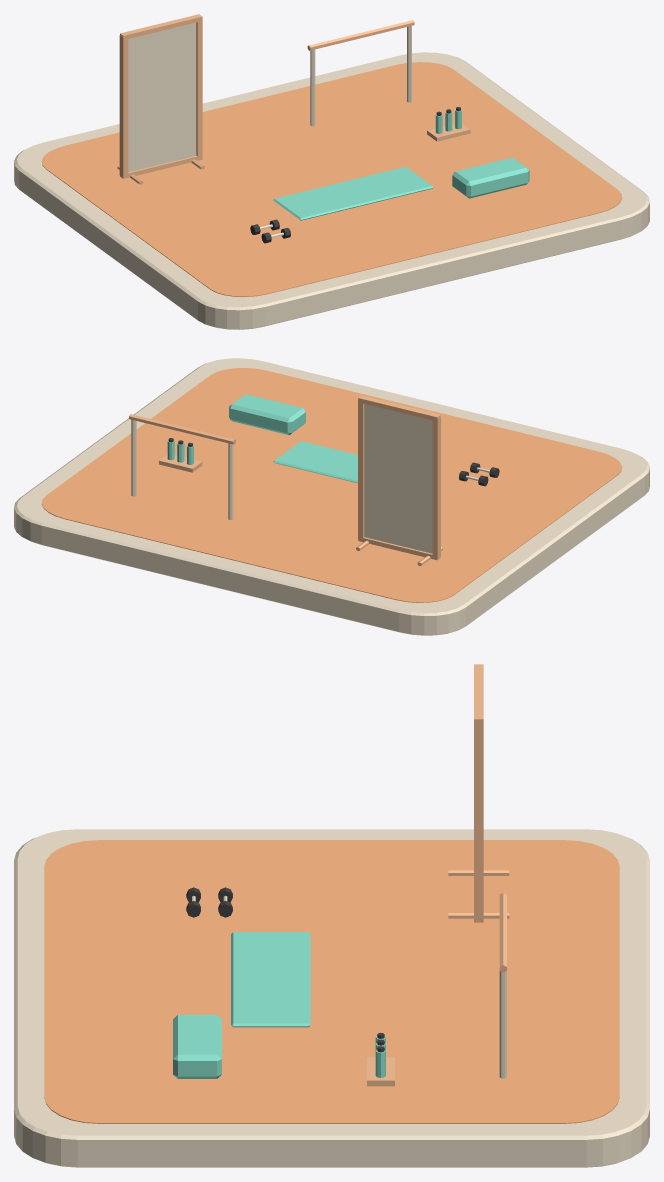
File: room.fbx
3 views of the same model, one above another, from view 1: azimuth 30°, elevation 25°; view 2: azimuth 150°, elevation 25°; view 3: azimuth 270°, elevation 25° (orthographic). The views are drawn at different scales.
Parts seen in each view (by area): view 1: COM-02 Floor Surface, COM-01 Rounded Base Direct, Mirror face, Exercise mat, Step, Frame, Frame.001, Bar, Frame.003, Post; view 2: COM-02 Floor Surface, COM-01 Rounded Base Direct, Mirror face, Step, Exercise mat, Frame, Frame.001, Bar, Frame.003, Post.001, Post, Frame.002 (+1 smaller); view 3: COM-02 Floor Surface, COM-01 Rounded Base Direct, Exercise mat, Step, Frame.001, Post.001.
Boxes of the visible parts, left/top/right/bottom form: COM-02 Floor Surface: left=41, top=62, right=622, bottom=296; COM-01 Rounded Base Direct: left=14, top=52, right=649, bottom=329; Mirror face: left=128, top=22, right=196, bottom=172; Exercise mat: left=273, top=166, right=433, bottom=220; Step: left=452, top=157, right=529, bottom=198; Frame: left=119, top=35, right=128, bottom=177; Frame.001: left=196, top=18, right=202, bottom=158; Bar: left=307, top=20, right=414, bottom=50; Frame.003: left=120, top=14, right=202, bottom=39; Post: left=310, top=49, right=315, bottom=126; COM-02 Floor Surface: left=41, top=368, right=622, bottom=602; COM-01 Rounded Base Direct: left=14, top=358, right=649, bottom=635; Mirror face: left=364, top=404, right=432, bottom=553; Step: left=229, top=394, right=305, bottom=435; Exercise mat: left=273, top=441, right=357, bottom=483; Frame: left=432, top=416, right=440, bottom=558; Frame.001: left=358, top=399, right=364, bottom=540; Bar: left=129, top=414, right=235, bottom=444; Frame.003: left=358, top=395, right=440, bottom=421; Post.001: left=131, top=419, right=136, bottom=496; Post: left=228, top=443, right=233, bottom=519; Frame.002: left=358, top=537, right=440, bottom=560; COM-02 Floor Surface: left=44, top=840, right=619, bottom=1123; COM-01 Rounded Base Direct: left=14, top=829, right=649, bottom=1167; Exercise mat: left=231, top=932, right=310, bottom=1027; Step: left=173, top=1014, right=221, bottom=1078; Frame.001: left=474, top=721, right=483, bottom=920; Post.001: left=499, top=971, right=506, bottom=1078.
Bounding box in the file's own units: 600 × 216 × 520.
